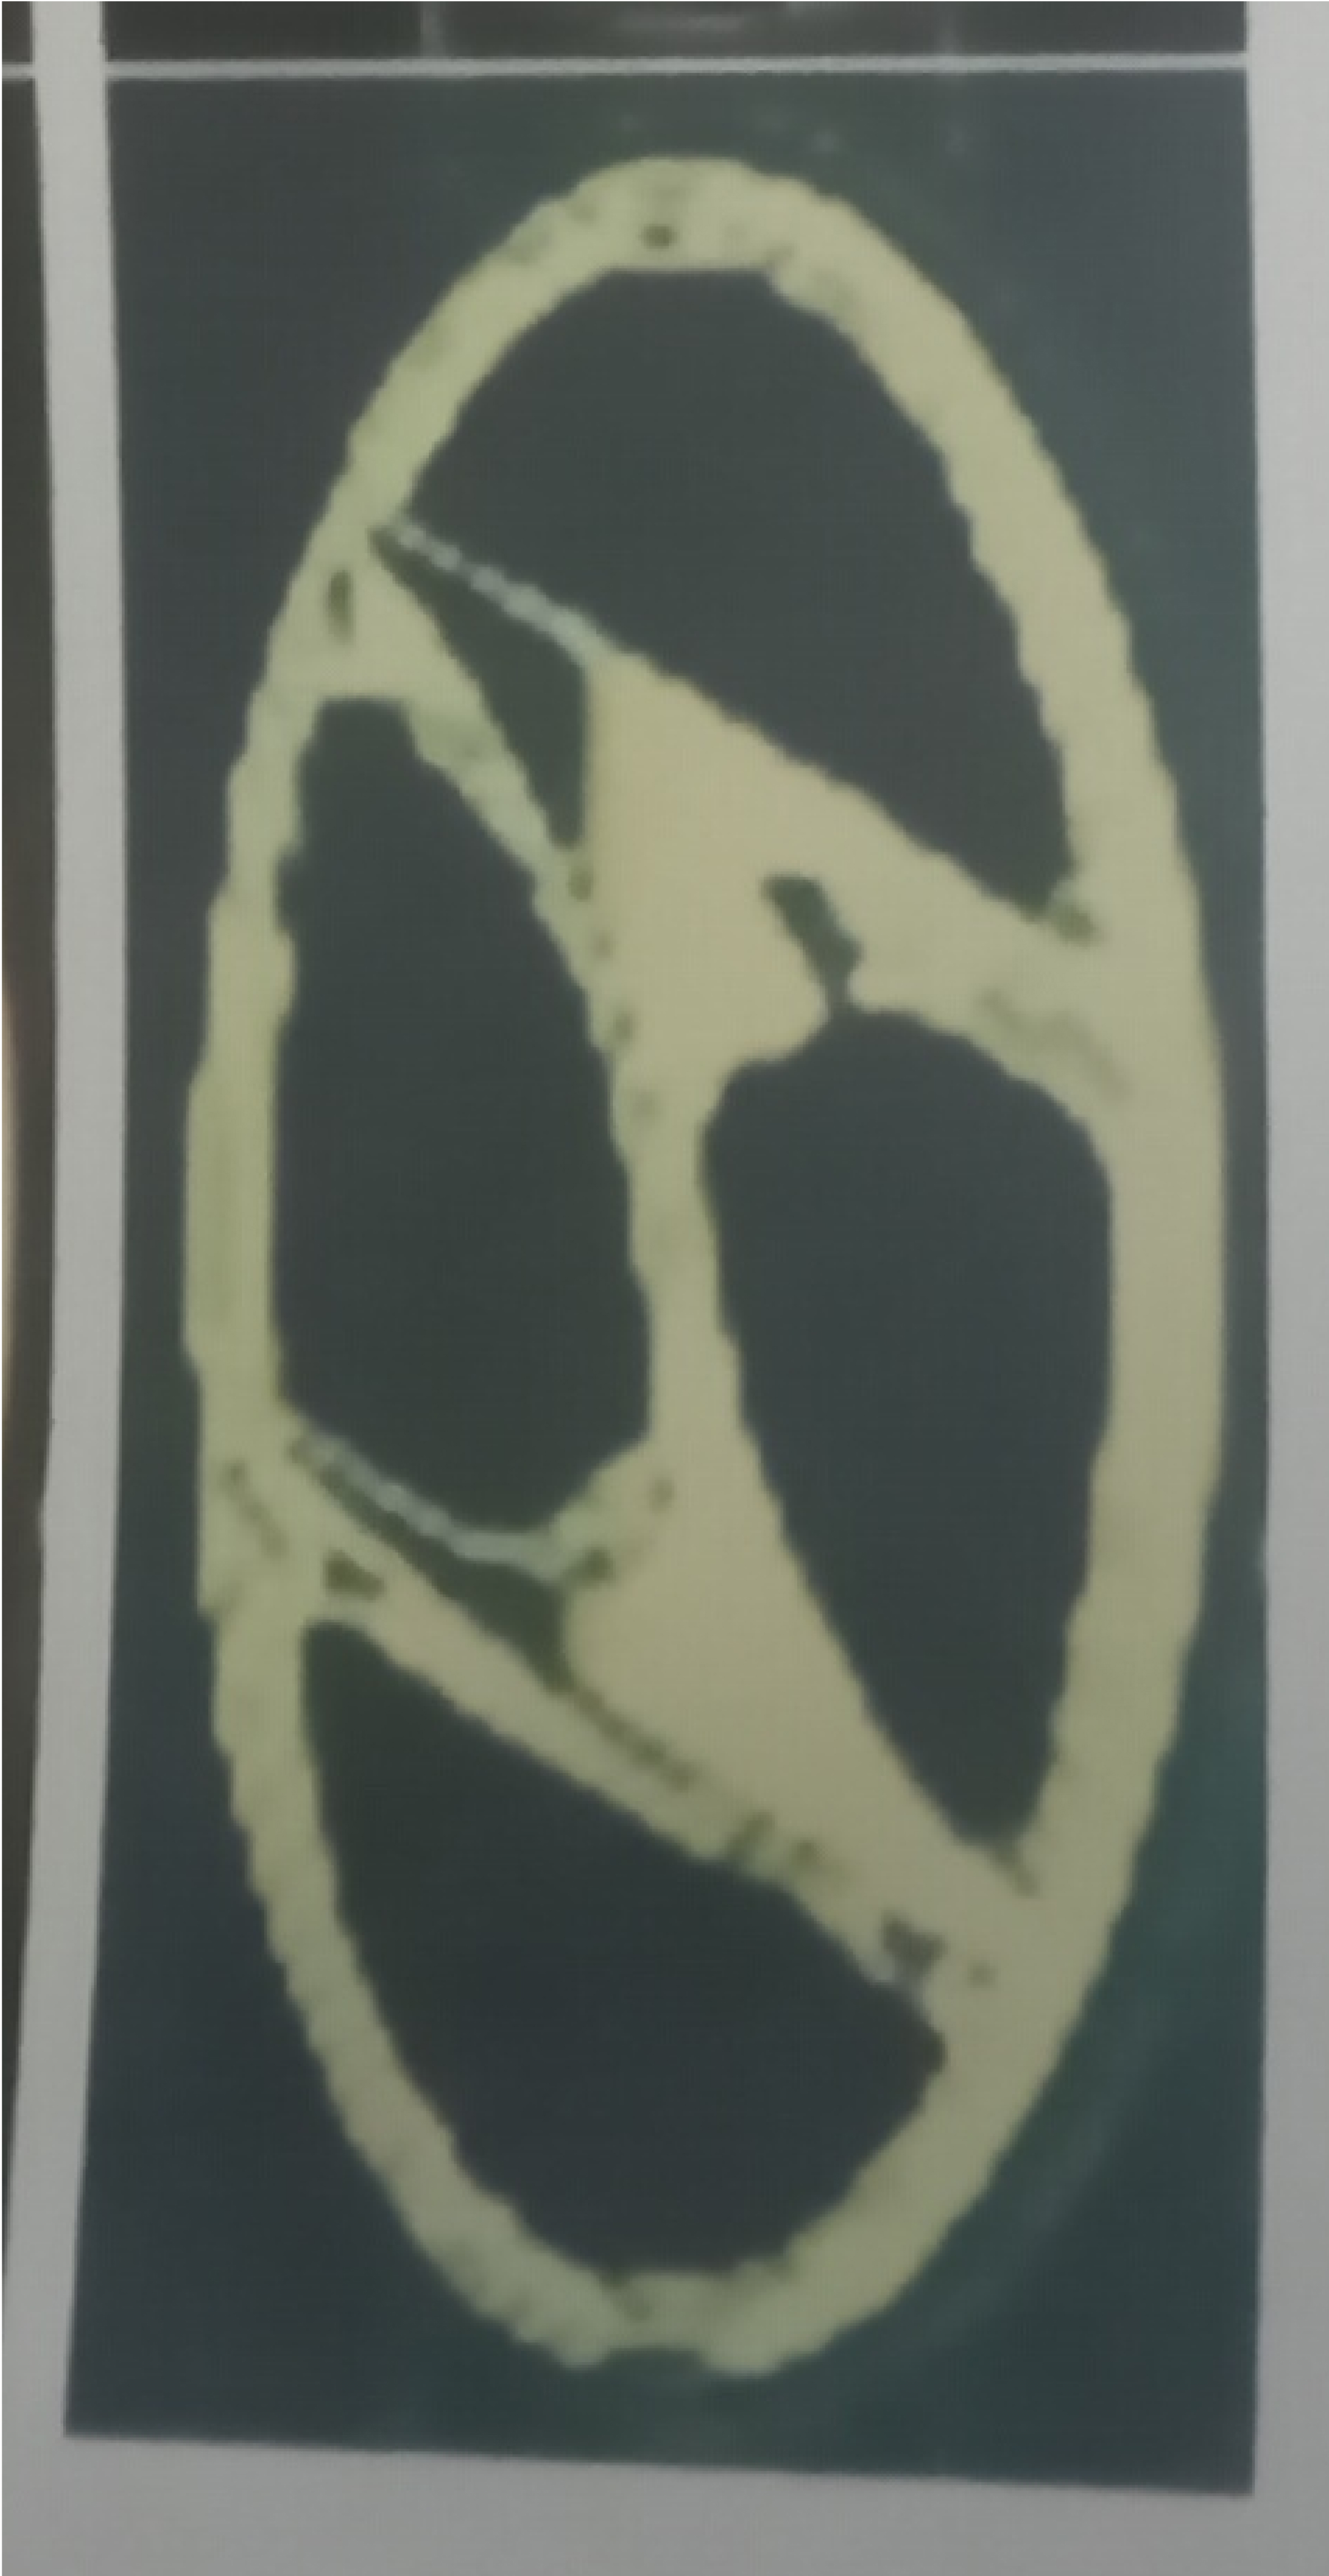Hyundai: (81, 63, 1292, 2545)
